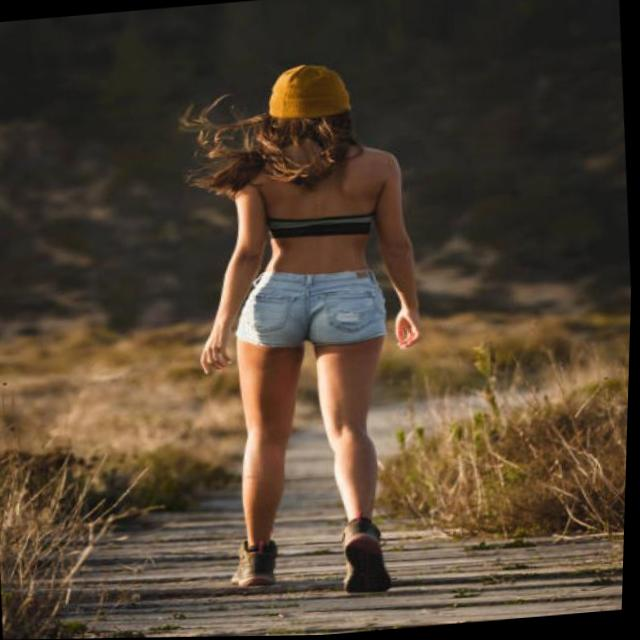no helmet: (258, 57, 381, 160)
